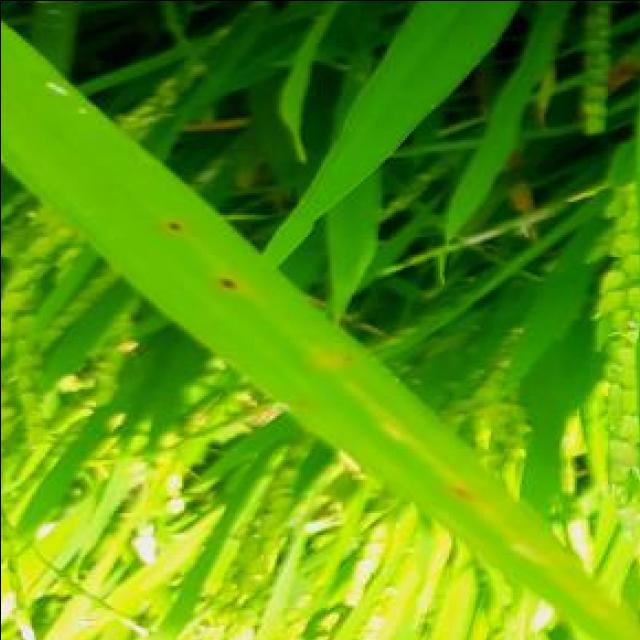Brown_Spot: (451, 484, 484, 509), (216, 274, 247, 300), (161, 214, 192, 240), (334, 346, 362, 371), (292, 391, 320, 415)
